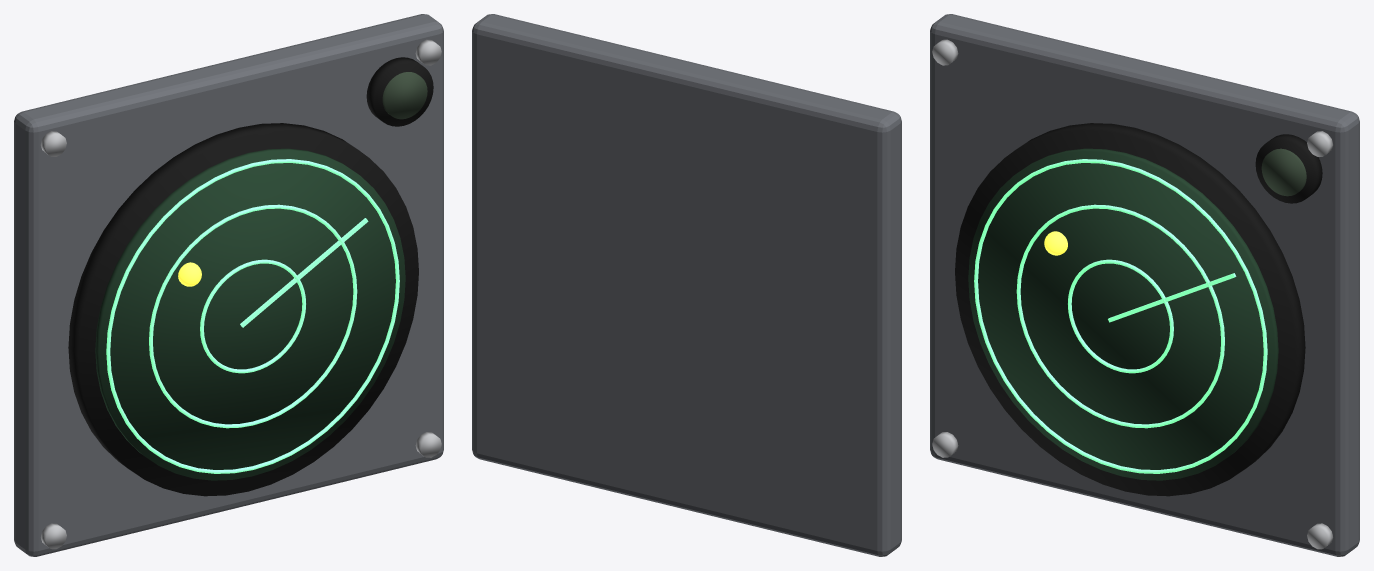
File: radar.glb
The picture shows the model from 3 angles, left to right: view 1: azimuth 30°, elevation 25°; view 2: azimuth 150°, elevation 25°; view 3: azimuth 330°, elevation 25°; orthographic projection.
Visible parts, largest first — view 1: radar_Plate, radar_Screen, radar_Bezel, radar_Ring.002, radar_Ring.001, radar_StatusRing, radar_StatusLED, radar_Ring, radar_Sweep, radar_Screw.003, radar_Screw, radar_Screw.001; view 2: radar_Plate; view 3: radar_Plate, radar_Screen, radar_Bezel, radar_Ring.002, radar_Ring.001, radar_StatusRing, radar_StatusLED, radar_Ring, radar_Sweep, radar_Screw.001, radar_Screw.002, radar_Screw.003.
Boxes of the visible parts, bbox=[...] form: radar_Plate: bbox=[14, 14, 443, 556]; radar_Screen: bbox=[95, 148, 405, 480]; radar_Bezel: bbox=[68, 123, 418, 496]; radar_Ring.002: bbox=[106, 159, 399, 473]; radar_Ring.001: bbox=[149, 204, 357, 428]; radar_StatusRing: bbox=[366, 57, 433, 126]; radar_StatusLED: bbox=[382, 72, 427, 119]; radar_Ring: bbox=[200, 259, 305, 373]; radar_Sweep: bbox=[240, 218, 368, 327]; radar_Screw.003: bbox=[415, 39, 441, 65]; radar_Screw: bbox=[41, 523, 66, 549]; radar_Screw.001: bbox=[41, 131, 66, 156]; radar_Plate: bbox=[472, 14, 901, 556]; radar_Plate: bbox=[930, 14, 1359, 556]; radar_Screen: bbox=[968, 148, 1278, 480]; radar_Bezel: bbox=[955, 123, 1305, 496]; radar_Ring.002: bbox=[974, 159, 1267, 473]; radar_Ring.001: bbox=[1016, 204, 1224, 428]; radar_StatusRing: bbox=[1255, 134, 1322, 203]; radar_StatusLED: bbox=[1261, 148, 1306, 196]; radar_Ring: bbox=[1068, 259, 1173, 373]; radar_Sweep: bbox=[1108, 273, 1236, 322]; radar_Screw.001: bbox=[932, 39, 958, 65]; radar_Screw.002: bbox=[1307, 523, 1332, 549]; radar_Screw.003: bbox=[1307, 131, 1332, 156].
Bounding box in the file's own units: 0.98 × 0.98 × 0.165.
